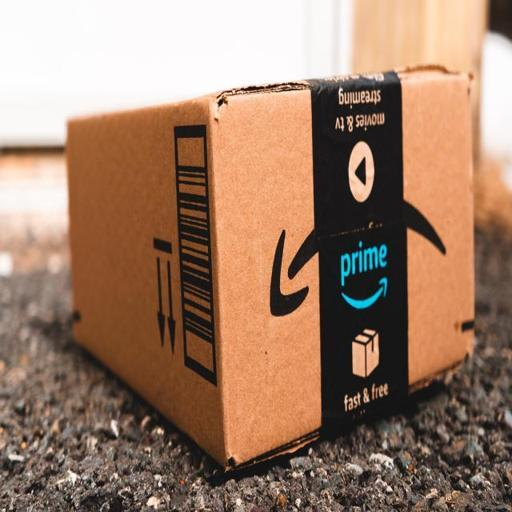Amazon: (64, 54, 479, 465)
